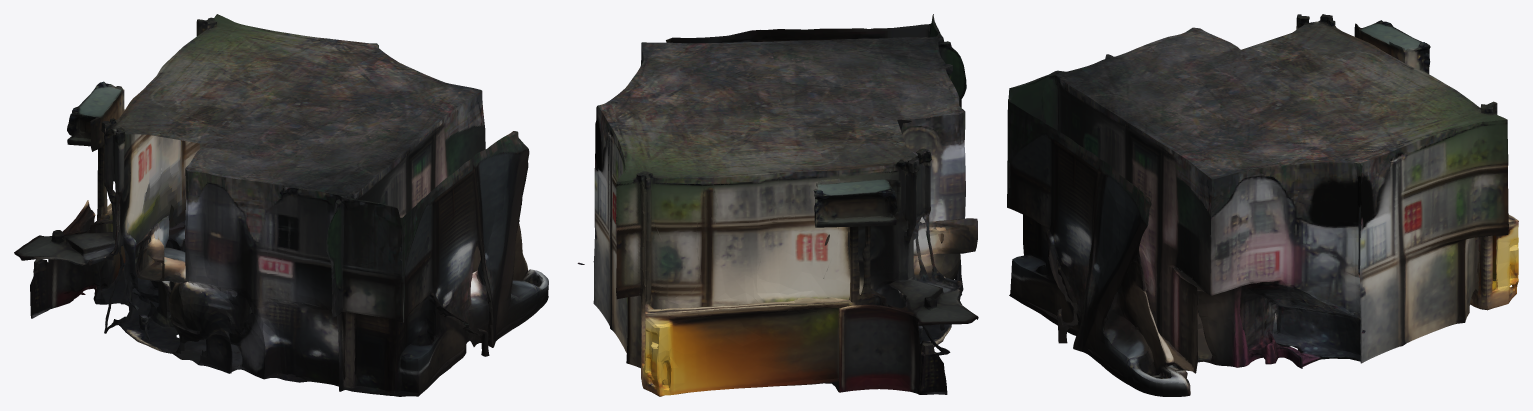
The model's file is Surroundings (18)_compressed.glb.
3 renders of one model, left to right at view 1: azimuth 30°, elevation 25°; view 2: azimuth 150°, elevation 25°; view 3: azimuth 270°, elevation 25°, orthographic. The views are drawn at different scales.
Visible parts, largest first — view 1: world; view 2: world; view 3: world.
Boxes of the visible parts, x1,y1,x2,y2 form: world: (14,14,548,396); world: (577,14,978,396); world: (1007,14,1518,396).
Size of the model in its own units: 1 by 0.4364 by 0.9976.
Materials: 1 (1 with a texture image).
